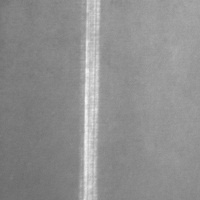scratches: (77, 0, 104, 199)
